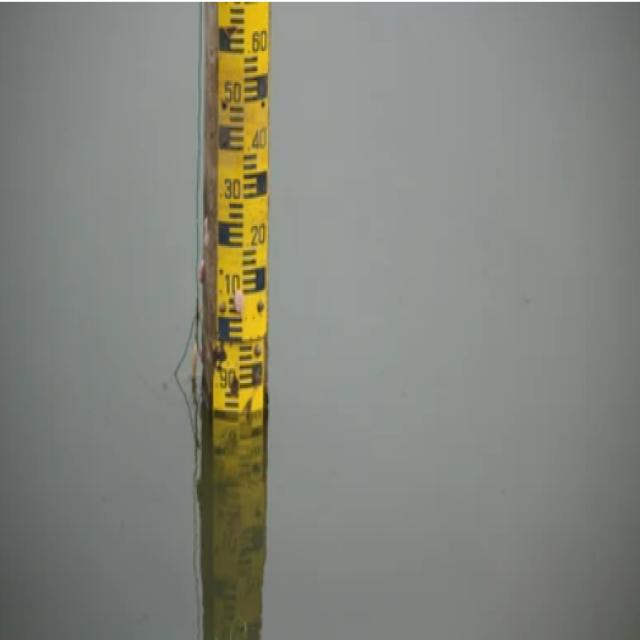ruler: (201, 0, 279, 422)
value: (243, 22, 271, 60), (213, 359, 241, 396), (243, 120, 269, 157), (216, 171, 244, 202), (217, 74, 243, 106), (243, 220, 269, 251), (217, 269, 241, 300)
